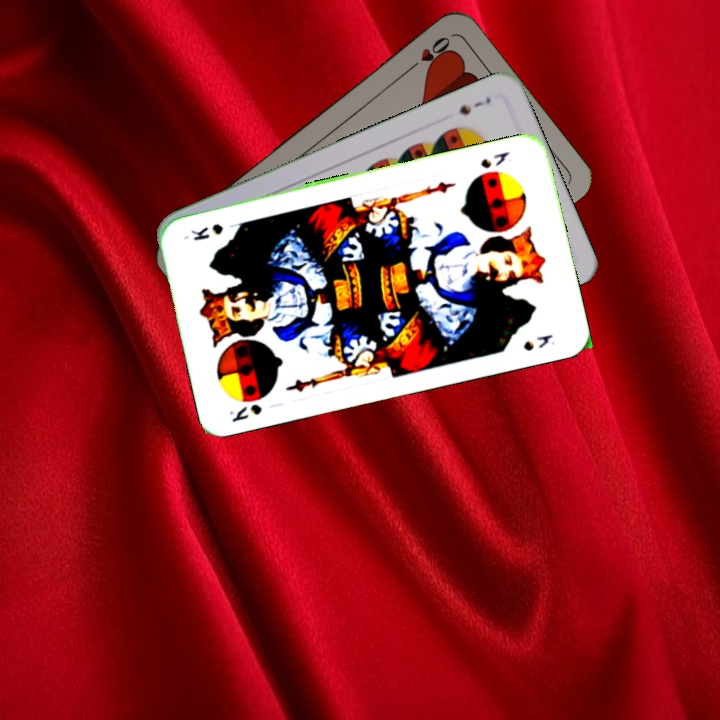HO: (404, 32, 454, 74)
S7: (455, 93, 494, 118)
SK: (225, 400, 265, 425), (476, 147, 512, 171)
